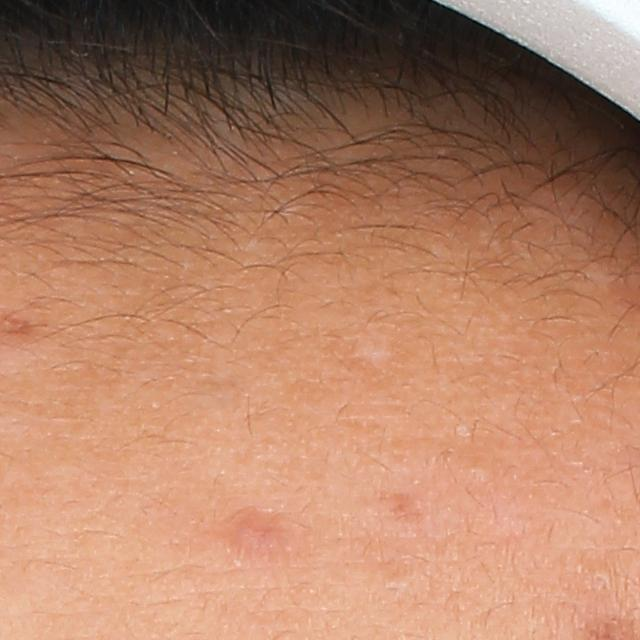comedo: (469, 458, 496, 486)
